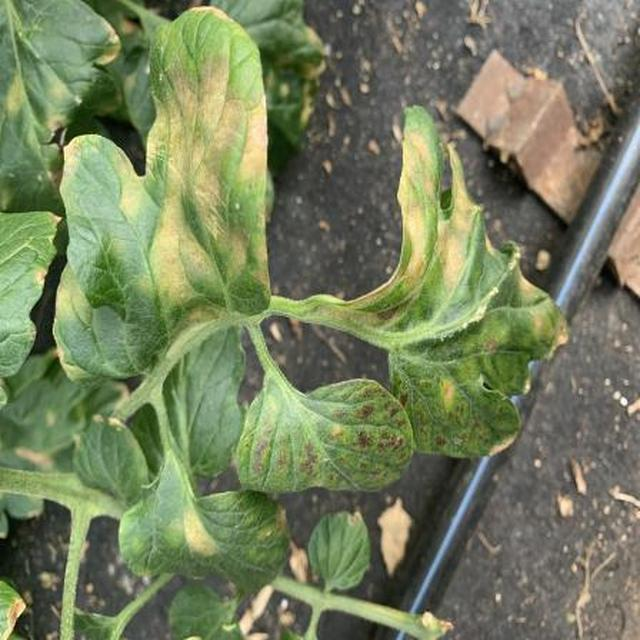Leaf Mold: (232, 182, 640, 640)
